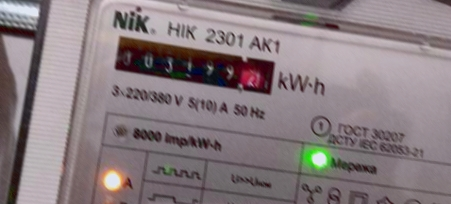0: (119, 46, 133, 65), (142, 48, 154, 68)
1: (184, 52, 194, 71)
3: (163, 53, 173, 73)
6: (245, 72, 256, 89)
9: (224, 62, 235, 81), (204, 57, 214, 75)
screen: (107, 30, 283, 101)
